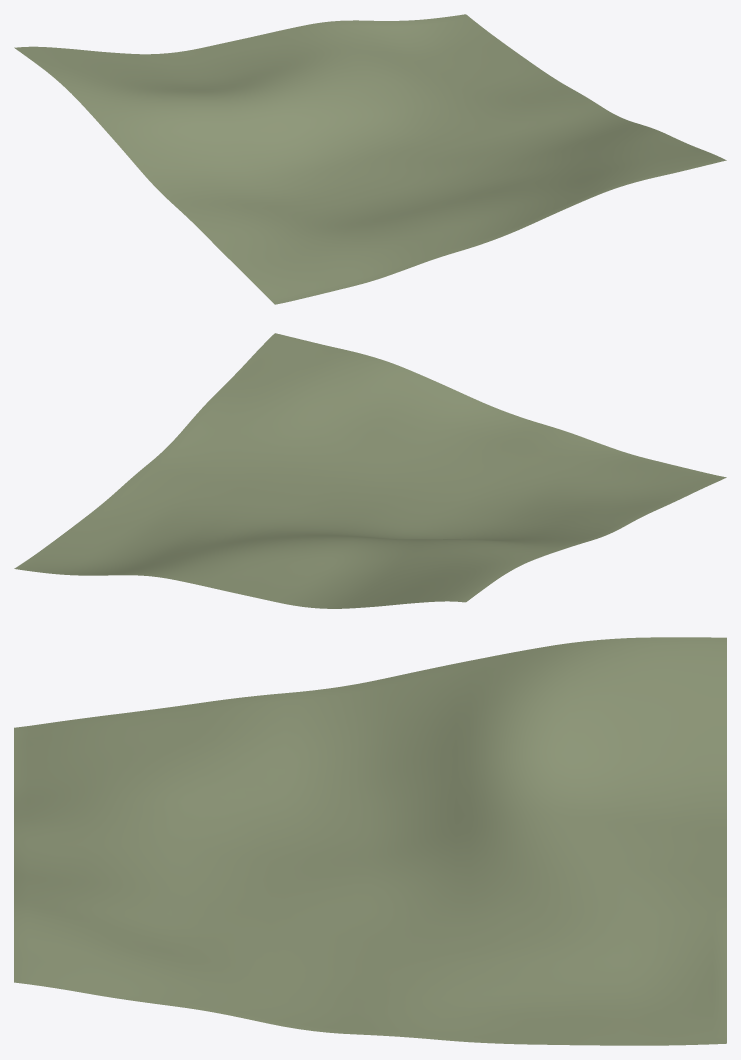
3 renders of one model, top to bottom at view 1: azimuth 30°, elevation 25°; view 2: azimuth 150°, elevation 25°; view 3: azimuth 270°, elevation 25°, orthographic. The views are drawn at different scales.
Parts seen in each view (by area): view 1: ground; view 2: ground; view 3: ground.
Part boxes in pixels (x1,y1,x2,y2): ground: (14, 14, 726, 304); ground: (14, 333, 726, 608); ground: (14, 637, 726, 1045).
Bounding box in the file's own units: 250 × 41.38 × 250.
